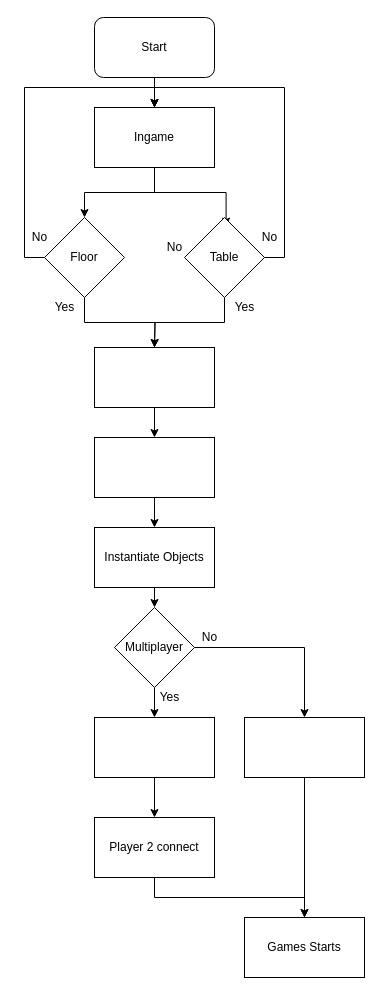
Image size: 382x995. Some labels were removed from this diagram. The shapes that lost their labels are listed below. From the top down, each one's centre as x and y in pixels, then its label:
the point at 154,377: Scan game area
the point at 154,467: Generate Anchors
the point at 154,747: Share Cloud Anchor
the point at 304,747: Generate AI player 2
